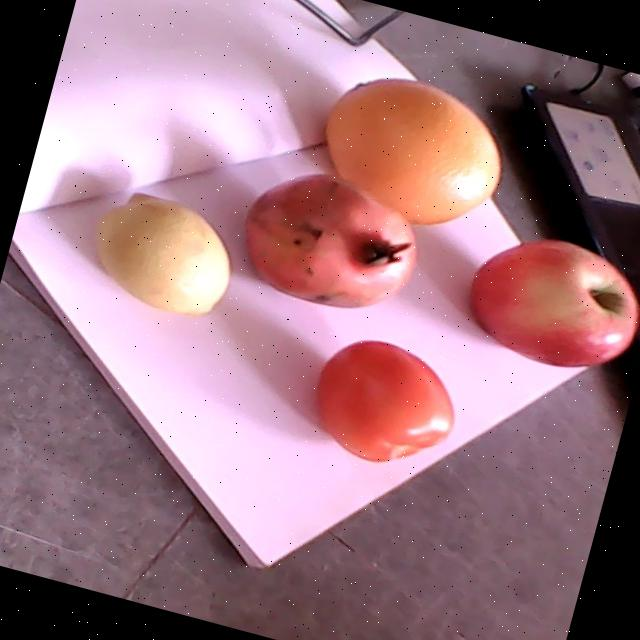apple: (468, 239, 640, 367)
lemon: (91, 192, 229, 314)
orange: (324, 78, 499, 225)
pomegranate: (243, 174, 417, 307)
tomato: (315, 340, 453, 462)
